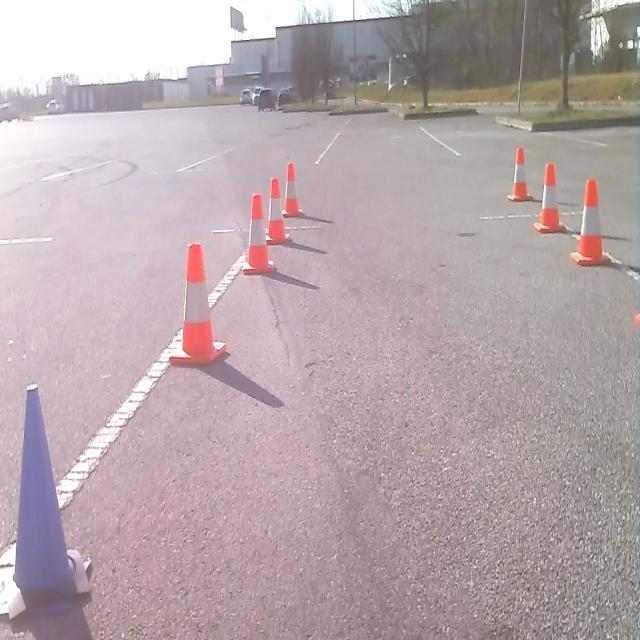blue_cone: (8, 379, 92, 617)
orange_cone: (168, 239, 227, 368), (570, 176, 612, 266), (242, 191, 274, 275), (534, 160, 566, 234), (266, 176, 290, 244), (506, 144, 534, 202), (282, 160, 304, 218)
